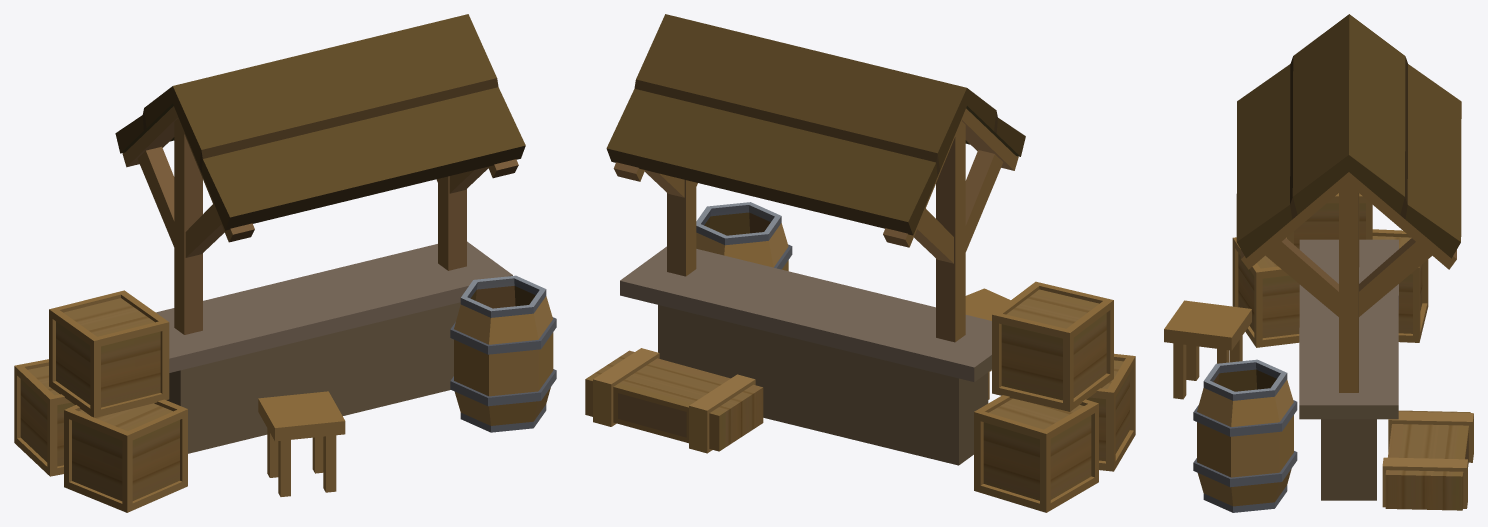
File: SF_Bld_Stall_02.gltf
3 views of the same model, side by side, from view 1: azimuth 30°, elevation 25°; view 2: azimuth 150°, elevation 25°; view 3: azimuth 270°, elevation 25° (orthographic). The views are drawn at different scales.
Parts seen in each view (by area): view 1: SF_Bld_Stall_02; view 2: SF_Bld_Stall_02; view 3: SF_Bld_Stall_02.
Part boxes in pixels (box(x1,y1,x2,y2)): SF_Bld_Stall_02: box(14, 14, 556, 512); SF_Bld_Stall_02: box(585, 14, 1135, 512); SF_Bld_Stall_02: box(1164, 14, 1473, 512).
Size of the model in its own units: 0.0656 by 0.05 by 0.0402.
Materials: 1 (1 with a texture image).
